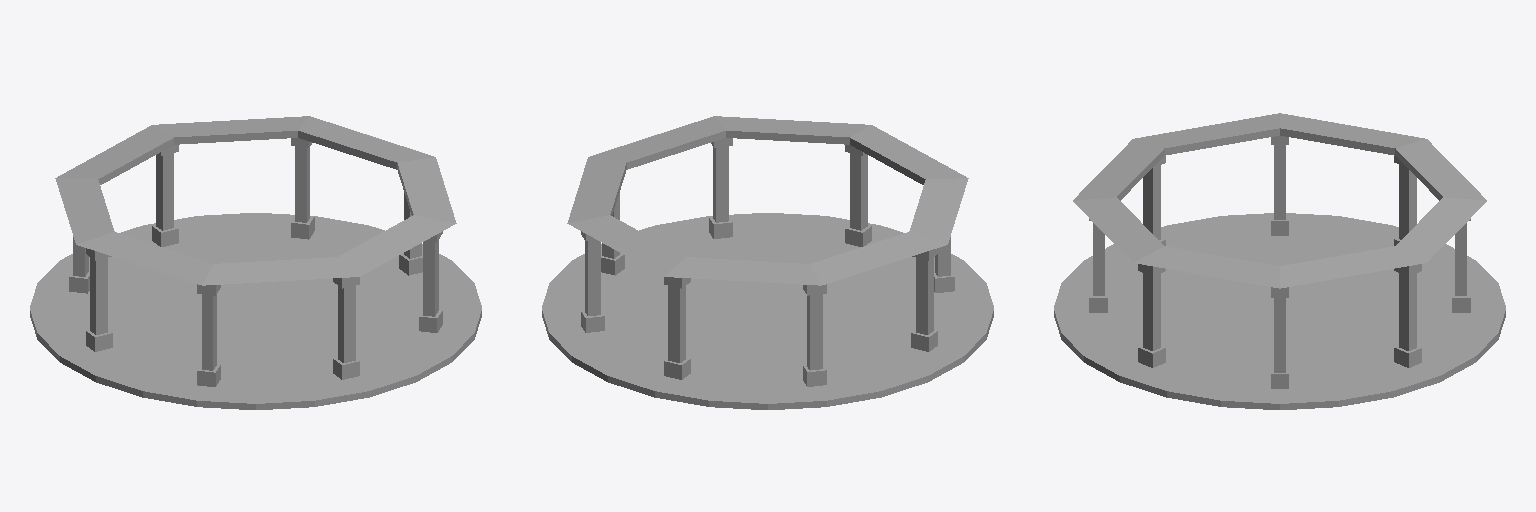
File: moon.obj
3 renders of one model, left to right at view 1: azimuth 30°, elevation 25°; view 2: azimuth 150°, elevation 25°; view 3: azimuth 270°, elevation 25°, orthographic.
Visible parts, largest first — view 1: Cylinder, Torus, Box, Box14, Box8, Box26, Box20, Box23; view 2: Cylinder, Torus, Box8, Box14, Box, Box17, Box26, Box20; view 3: Cylinder, Torus, Box26, Box20, Box17, Box23, Box14, Box11, Box, Box8.
Boxes of the visible parts, <box> form: Cylinder: <box>30,213,481,409</box>; Torus: <box>55,116,456,285</box>; Box: <box>338,286,355,362</box>; Box14: <box>90,257,107,334</box>; Box8: <box>156,153,173,230</box>; Box26: <box>423,240,438,316</box>; Box20: <box>295,147,309,222</box>; Box23: <box>202,294,216,370</box>; Cylinder: <box>542,213,993,409</box>; Torus: <box>567,116,968,285</box>; Box8: <box>668,286,685,362</box>; Box14: <box>916,257,933,334</box>; Box: <box>850,153,867,230</box>; Box17: <box>807,294,822,370</box>; Box26: <box>713,146,728,222</box>; Box20: <box>585,240,600,315</box>; Cylinder: <box>1054,213,1505,409</box>; Torus: <box>1073,113,1486,288</box>; Box26: <box>1143,273,1160,350</box>; Box20: <box>1399,273,1416,350</box>; Box17: <box>1399,165,1416,239</box>; Box23: <box>1143,165,1160,239</box>; Box14: <box>1274,145,1285,219</box>; Box11: <box>1274,298,1285,372</box>; Box: <box>1093,223,1104,295</box>; Box8: <box>1455,223,1466,295</box>.
Size of the model in its own units: 1 by 0.2863 by 1.